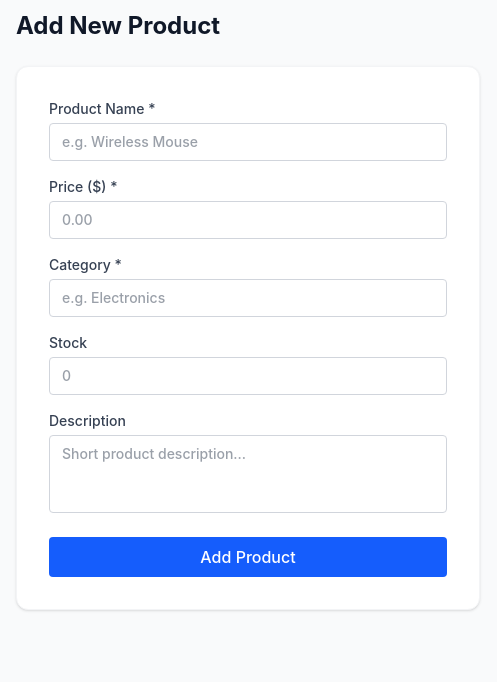
Test: AddProduct › shows validation error when required fields are empty
Click the button "Add Product" at (248, 557), box [49,537,447,577]
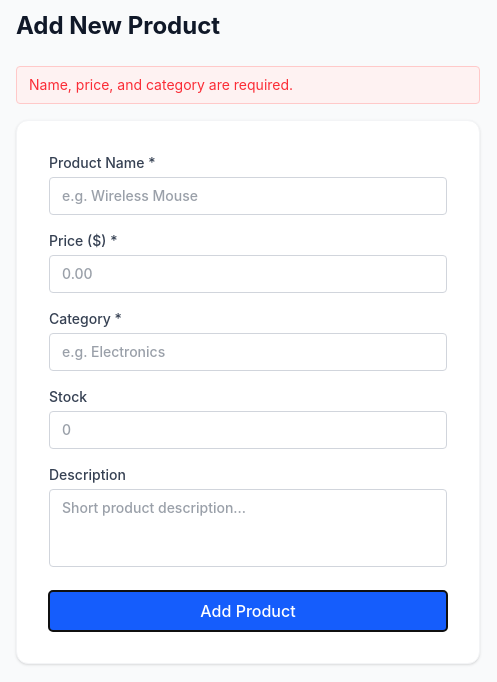
Expected: the text "Name, price, and category are required." is shown, [16,66,480,104]
